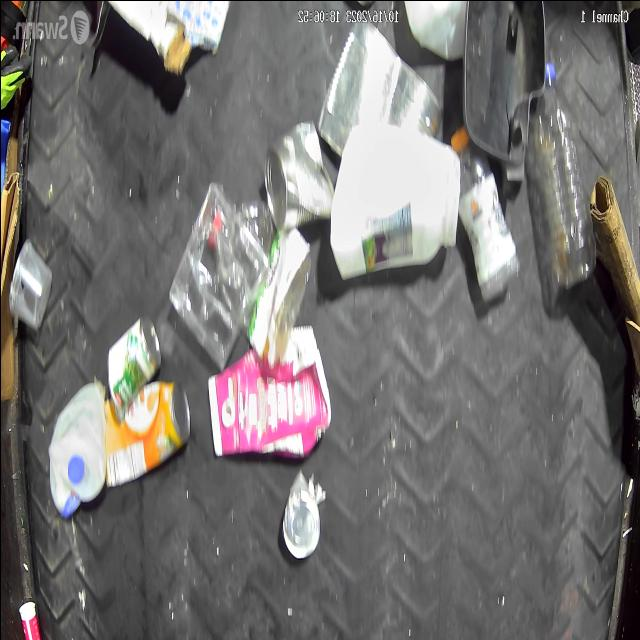can: (264, 122, 332, 218), (106, 318, 158, 410), (278, 490, 321, 560)
milk_jug: (331, 116, 459, 280)
plastic_bottle: (526, 69, 602, 287)
